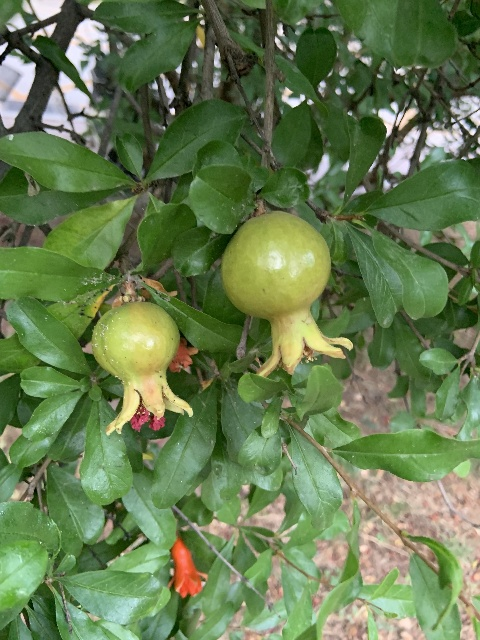flower: (168, 533, 207, 599)
mid-growth: (220, 211, 353, 379), (91, 300, 194, 436)
